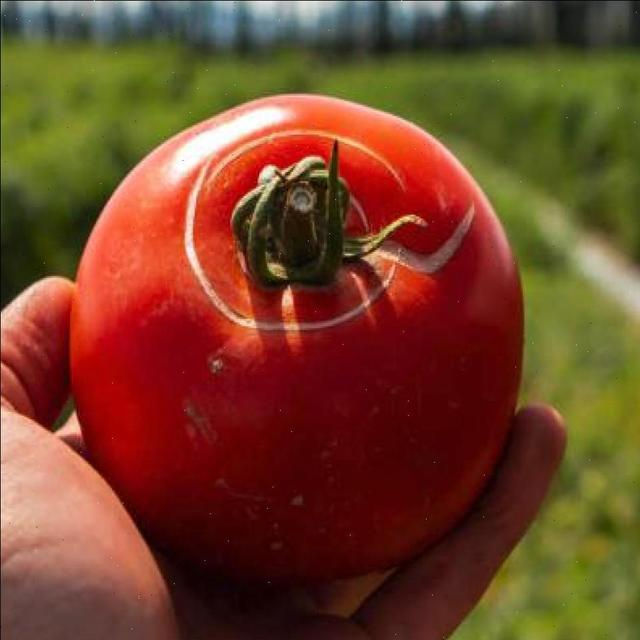Cracking Fruit: (122, 80, 321, 242)
